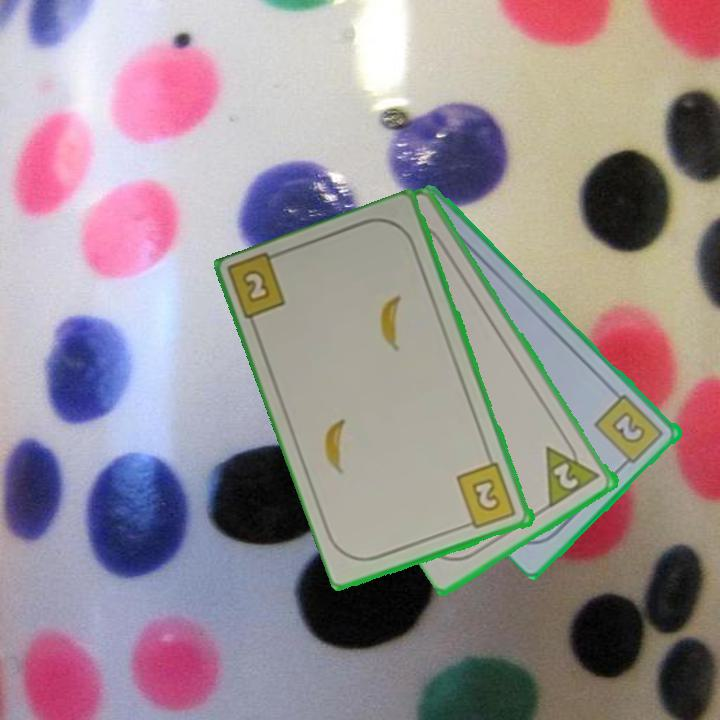2b: (591, 391, 668, 472), (453, 459, 520, 533), (238, 266, 274, 307)
2p: (542, 432, 604, 510)
